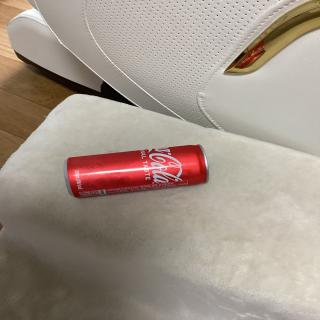cocacola: (56, 141, 218, 201)
